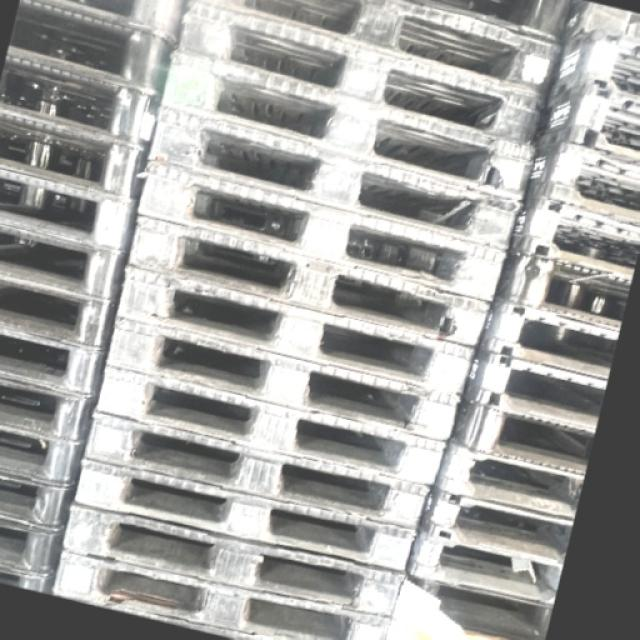igps: (153, 42, 541, 208), (144, 96, 527, 254), (165, 0, 550, 152), (135, 155, 511, 308), (112, 258, 480, 410), (124, 208, 494, 352), (101, 313, 464, 445), (91, 362, 451, 491), (78, 405, 434, 531), (58, 497, 410, 620), (71, 454, 421, 576), (178, 0, 567, 109), (48, 543, 396, 640), (2, 0, 183, 109), (0, 48, 166, 156), (409, 474, 579, 570), (403, 516, 570, 611), (425, 432, 589, 526), (0, 105, 151, 207), (456, 338, 612, 436), (437, 388, 600, 481), (488, 238, 636, 340), (469, 292, 626, 385), (0, 159, 142, 257), (501, 187, 640, 286), (516, 132, 640, 233), (394, 565, 557, 640), (0, 218, 132, 307), (0, 268, 121, 355), (527, 79, 640, 172), (12, 0, 192, 54), (536, 23, 639, 113), (0, 322, 110, 402), (0, 372, 102, 448), (0, 424, 89, 494), (553, 0, 640, 66), (0, 467, 80, 537), (0, 514, 69, 582), (0, 563, 59, 598)
